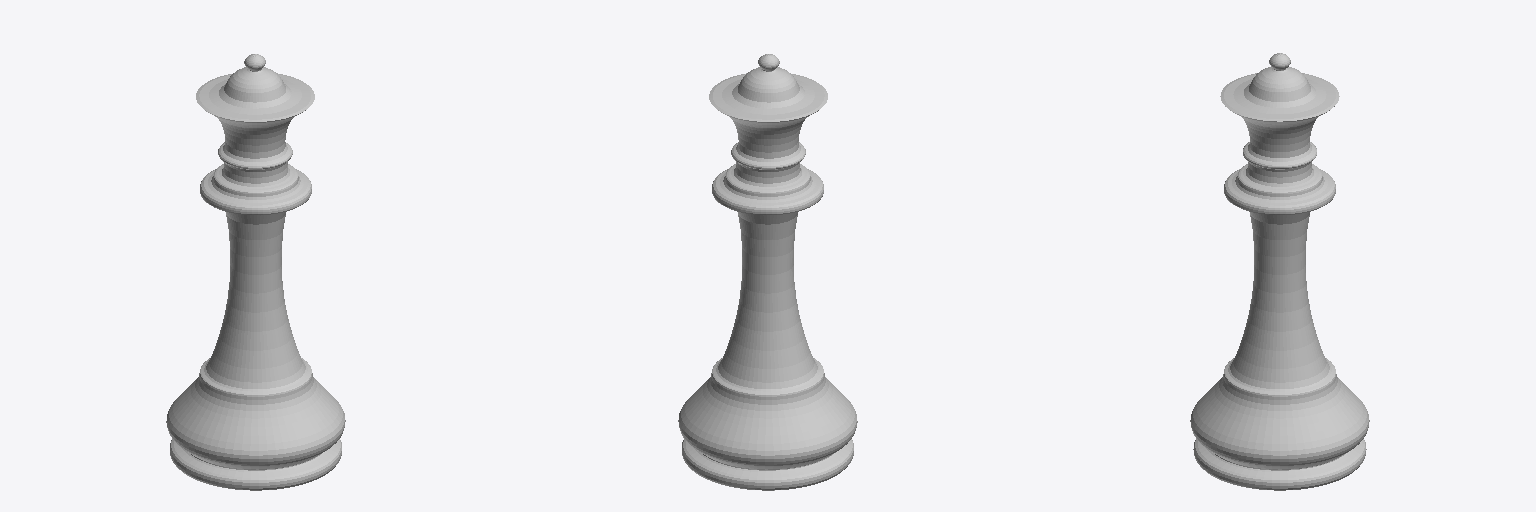
Rendered from queen.obj.
3 renders of one model, left to right at view 1: azimuth 30°, elevation 25°; view 2: azimuth 150°, elevation 25°; view 3: azimuth 270°, elevation 25°, orthographic.
Parts seen in each view (by area): view 1: queen_black_Cylinder.020; view 2: queen_black_Cylinder.020; view 3: queen_black_Cylinder.020.
Part boxes in pixels (x1,y1,x2,y2): queen_black_Cylinder.020: (166, 54, 345, 490); queen_black_Cylinder.020: (678, 54, 857, 490); queen_black_Cylinder.020: (1190, 53, 1369, 490).
Size of the model in its own units: 1.33 by 3.31 by 1.33.